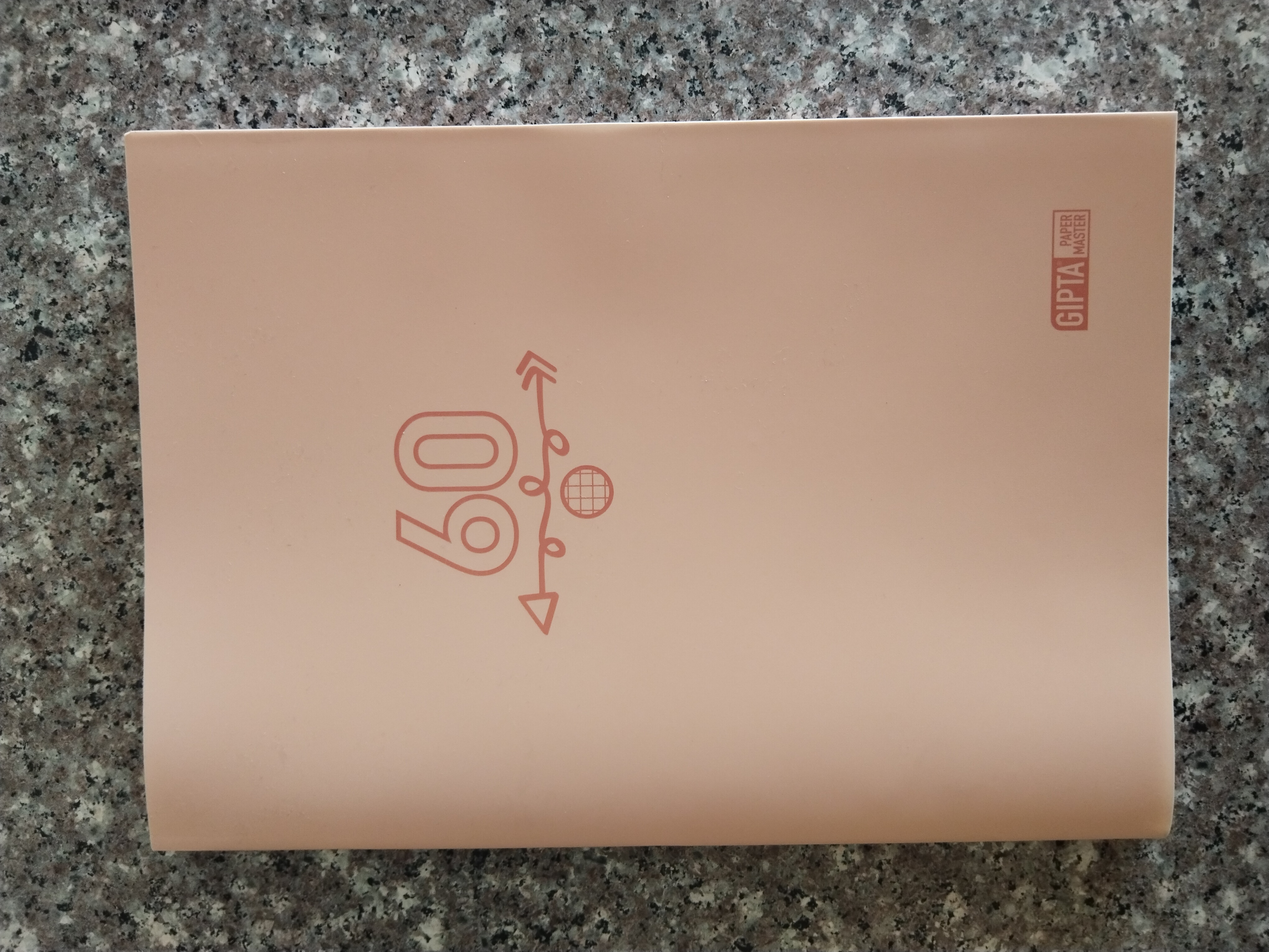60_sayfa_gipta_defter: (134, 120, 1175, 841)
